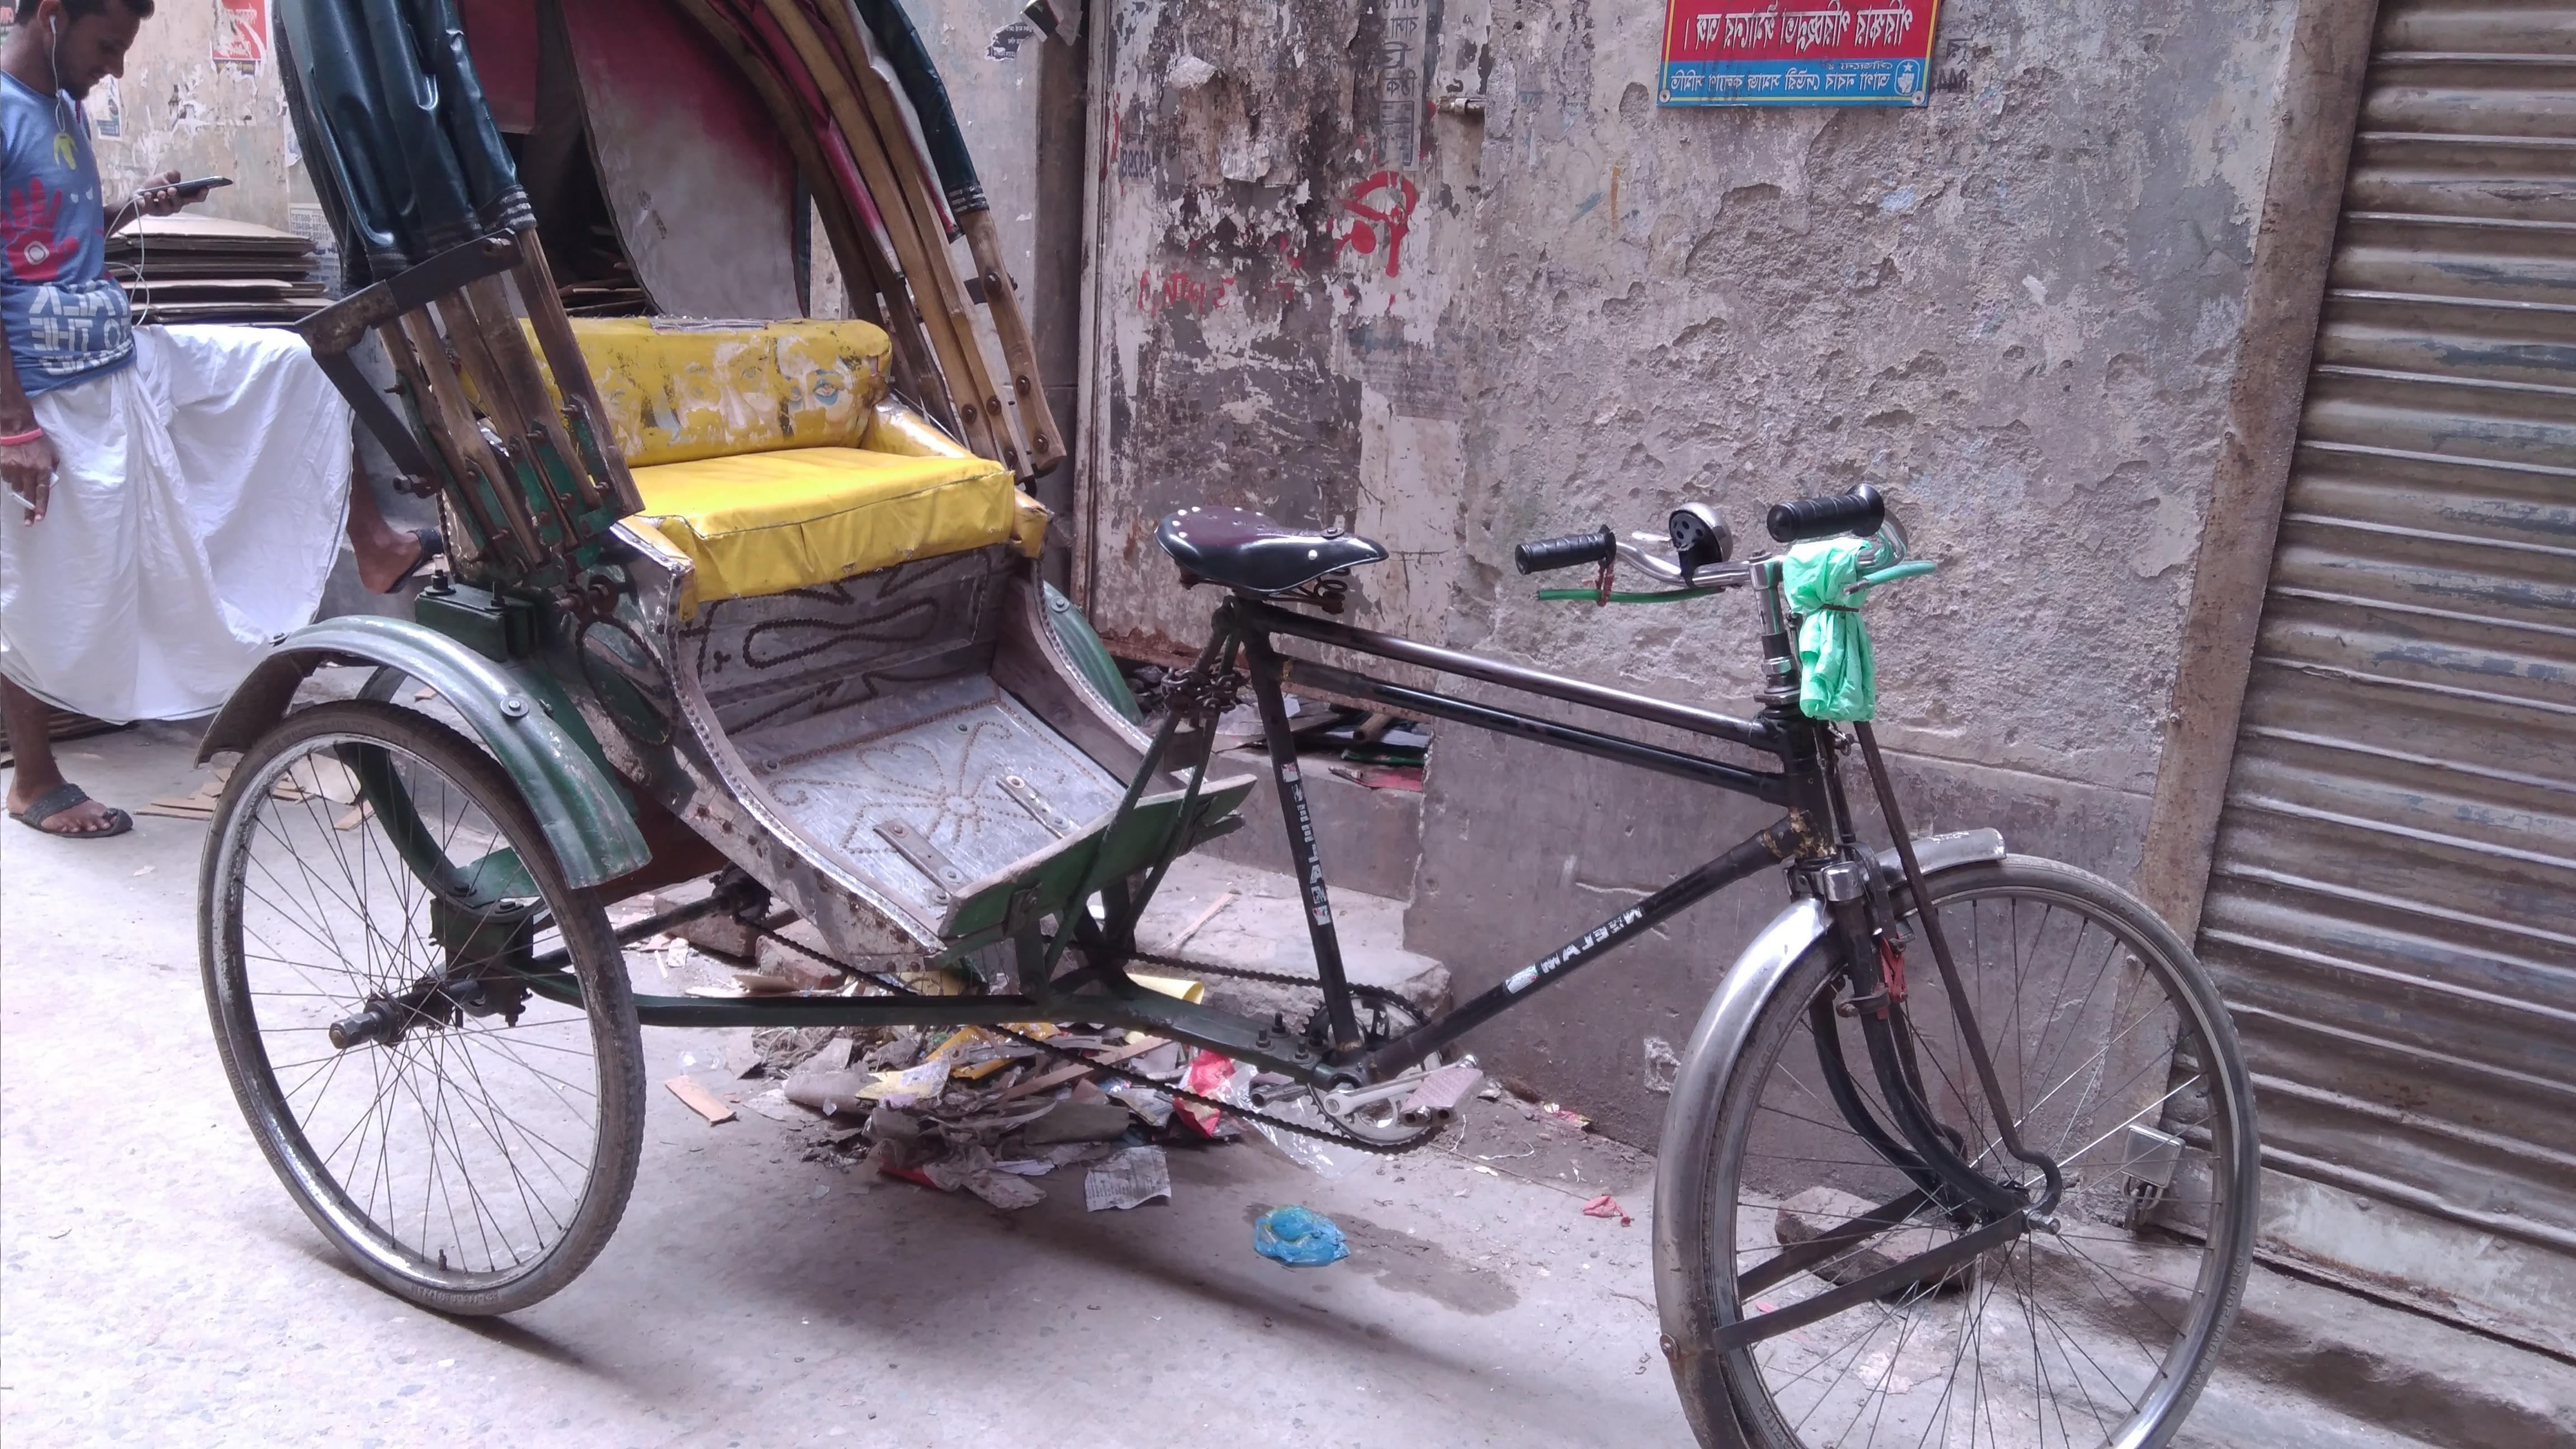Rickshaw: (172, 4, 2250, 1428)
